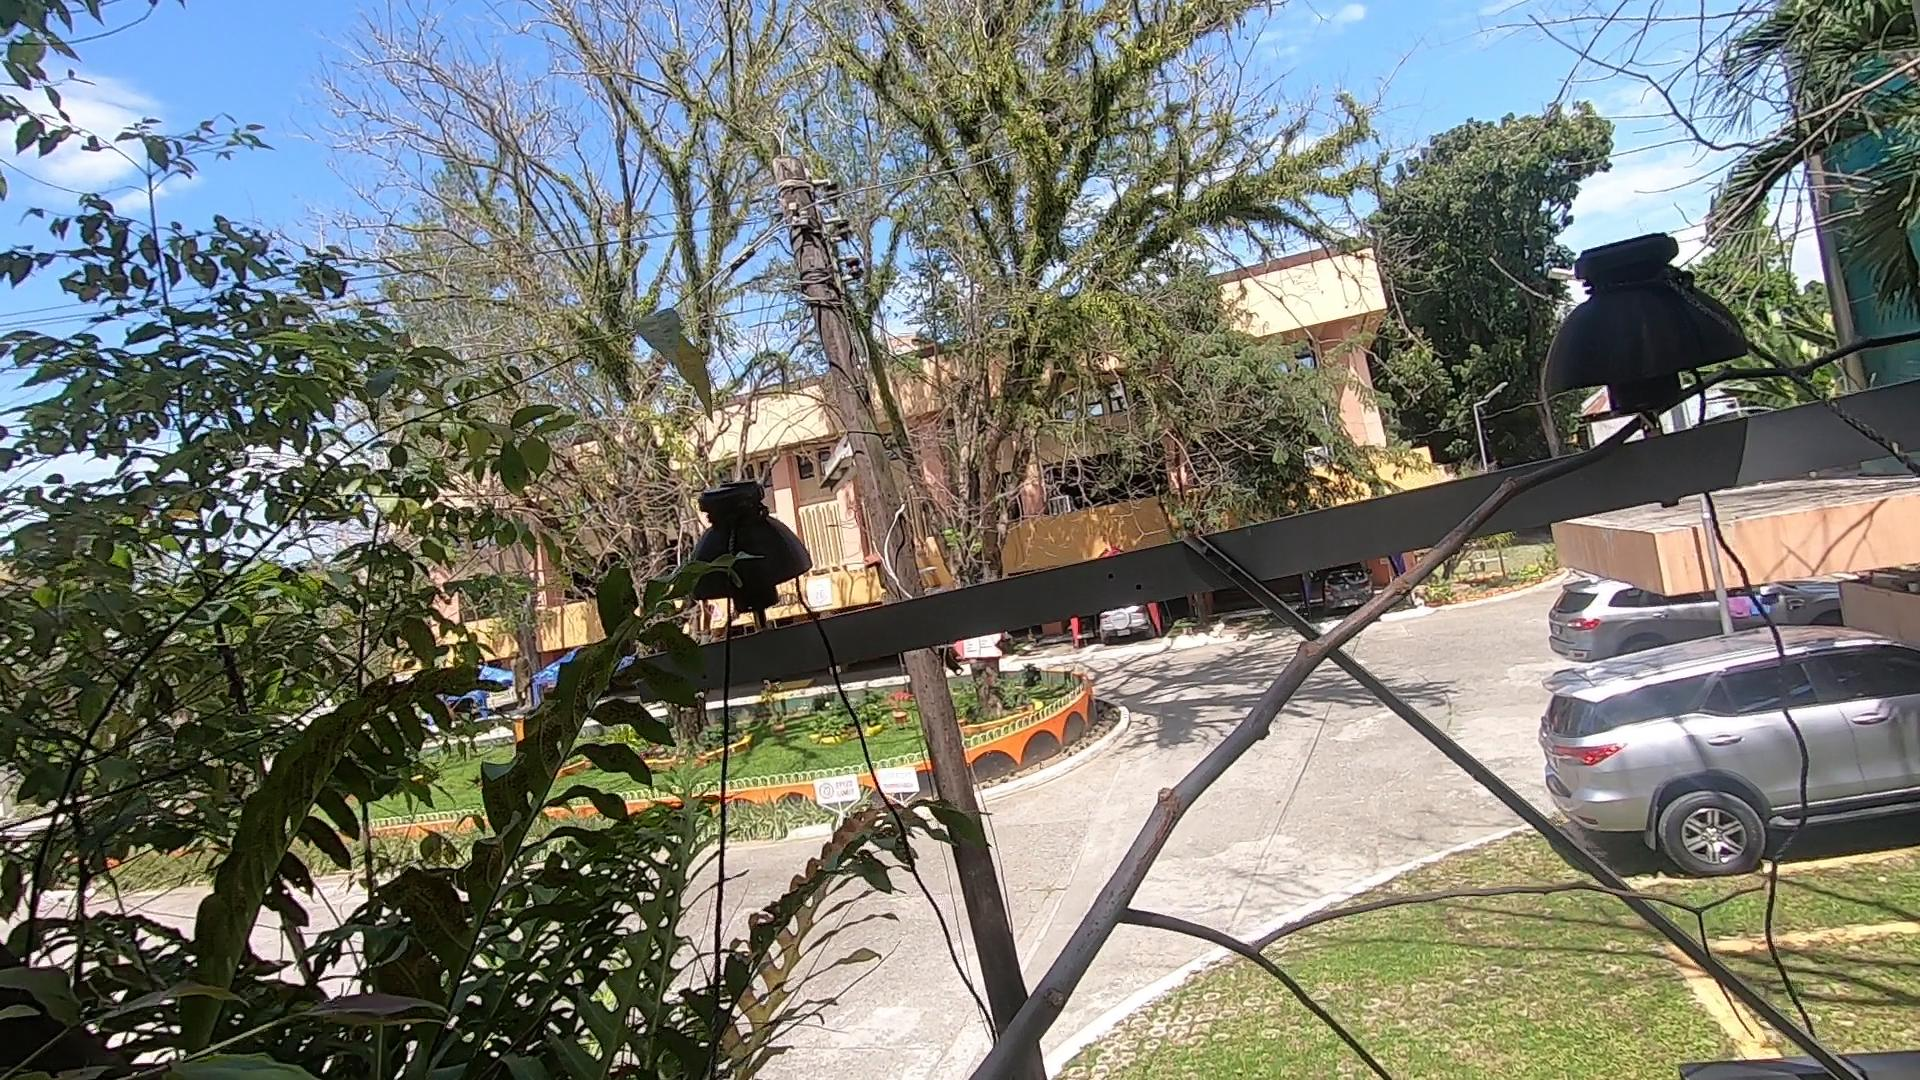tree branch: (833, 310, 1920, 1018)
